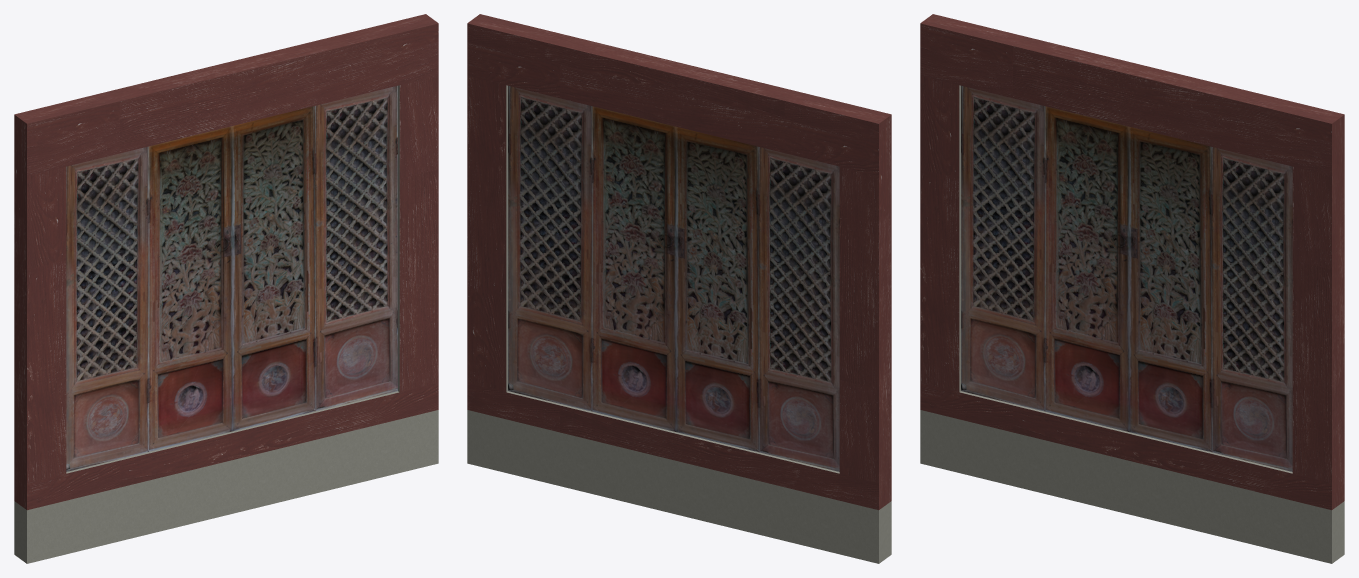
Rendered from SM_Sun_Won_Wall_A.fbx.
3 renders of one model, left to right at view 1: azimuth 30°, elevation 25°; view 2: azimuth 150°, elevation 25°; view 3: azimuth 330°, elevation 25°, orthographic.
Parts seen in each view (by area): view 1: SM_Sun_Won_Wall_A; view 2: SM_Sun_Won_Wall_A; view 3: SM_Sun_Won_Wall_A.
Part boxes in pixels (<box>): SM_Sun_Won_Wall_A: <box>14,14,438,563</box>; SM_Sun_Won_Wall_A: <box>467,14,891,563</box>; SM_Sun_Won_Wall_A: <box>920,14,1344,563</box>.
Size of the model in its own units: 277 by 283 by 15.
